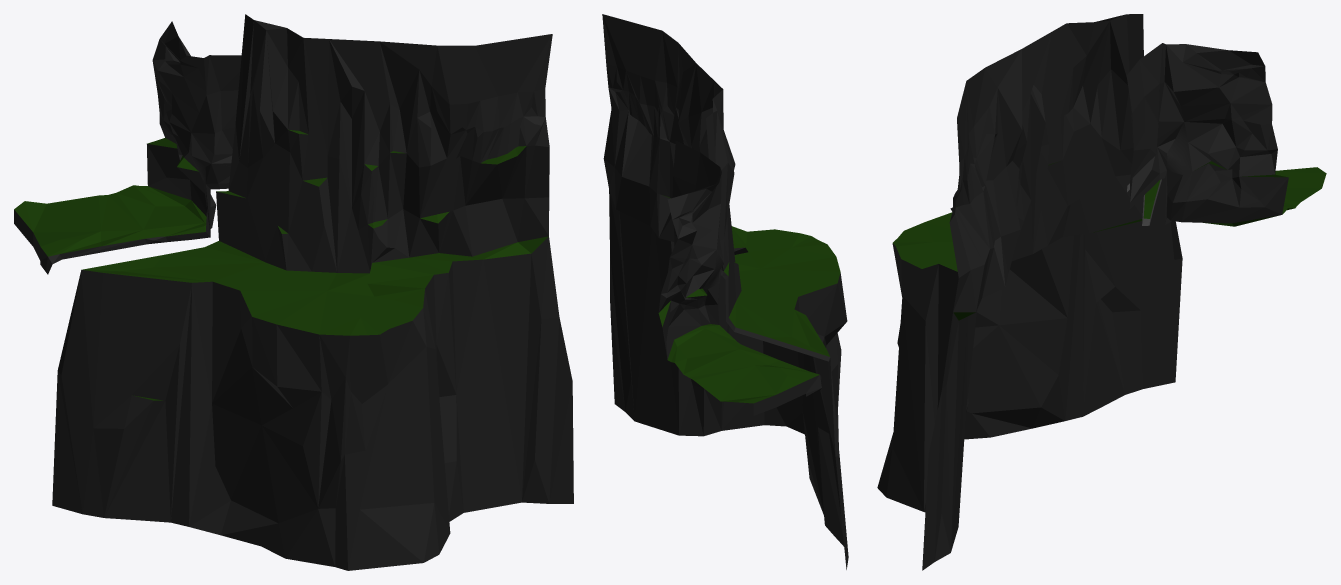
The model's file is terrain01.FBX.
The picture shows the model from 3 angles, left to right: view 1: azimuth 30°, elevation 25°; view 2: azimuth 150°, elevation 25°; view 3: azimuth 270°, elevation 25°; orthographic projection. The views are drawn at different scales.
Parts seen in each view (by area): view 1: terrain01; view 2: terrain01; view 3: terrain01.
Part boxes in pixels (<box>): terrain01: <box>14,14,573,570</box>; terrain01: <box>602,14,848,569</box>; terrain01: <box>877,14,1326,570</box>.
Bounding box in the file's own units: 32944 × 36716 × 32995.
